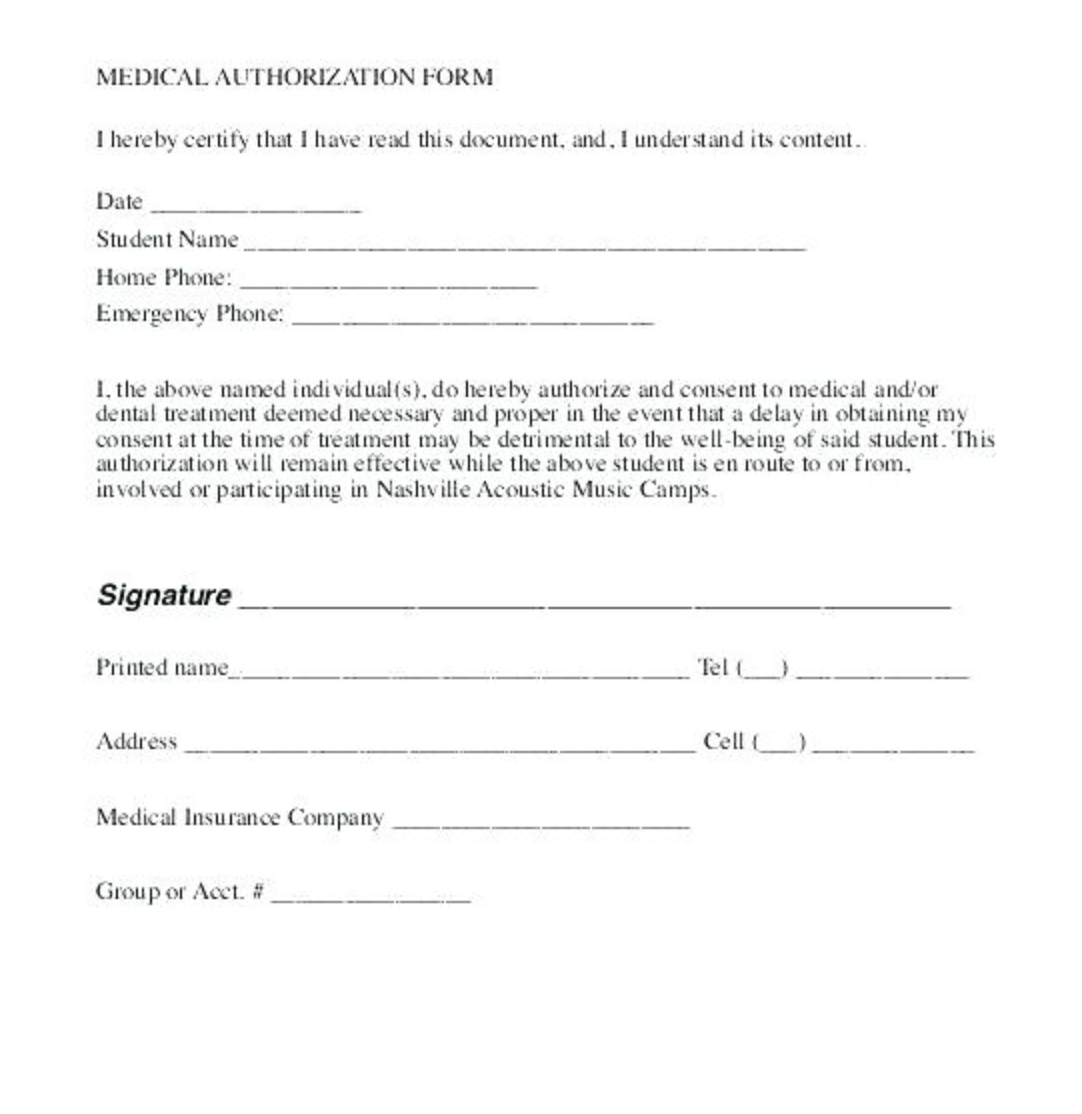textline: (233, 574, 967, 621), (179, 719, 702, 766), (241, 222, 816, 261), (232, 644, 697, 686), (283, 298, 668, 336), (384, 795, 697, 836), (231, 258, 545, 296), (264, 866, 480, 913), (144, 182, 368, 223), (808, 723, 982, 762), (794, 653, 975, 683)
